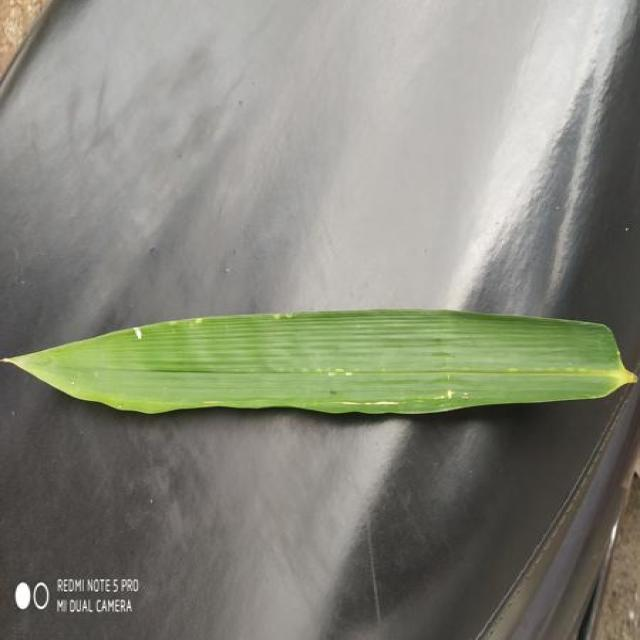Bamboo: (5, 310, 635, 414)
